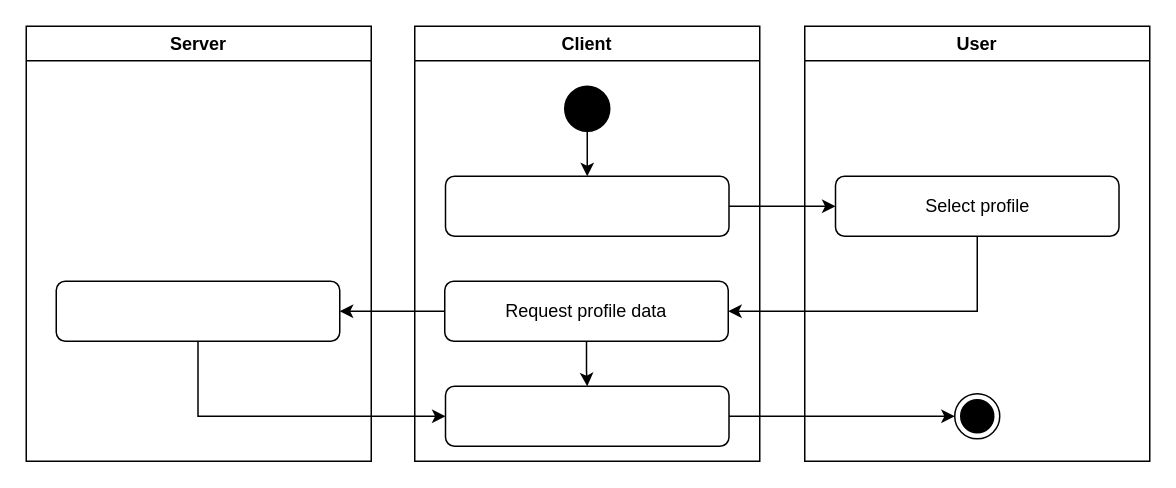
Image size: 1176x488. Some labels were removed from this diagram. Here are the shapes that lost their labels. From the top down, the centre of each, then its label:
At [586,205]: "Show profile list".
At [197,310]: "Provide profile data".
At [586,415]: "Show Main Page".
